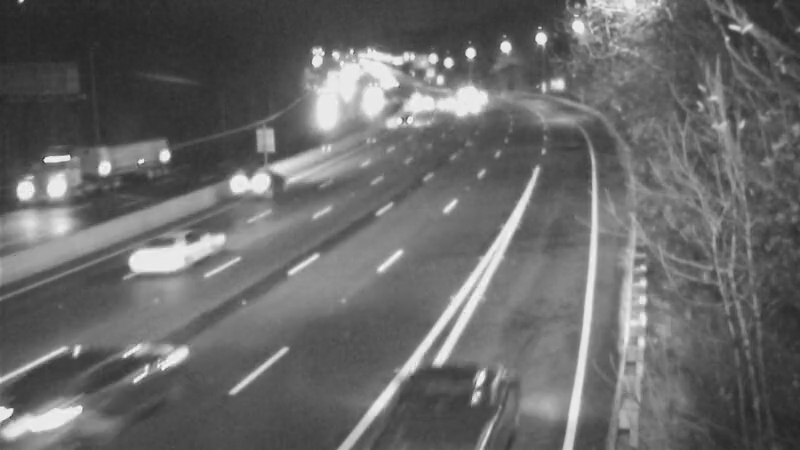vehicle: (369, 357, 479, 450), (1, 352, 102, 450), (215, 146, 295, 226), (130, 214, 210, 294), (1, 151, 78, 231), (390, 81, 440, 131), (429, 83, 479, 133), (377, 95, 427, 145), (342, 77, 392, 127)
